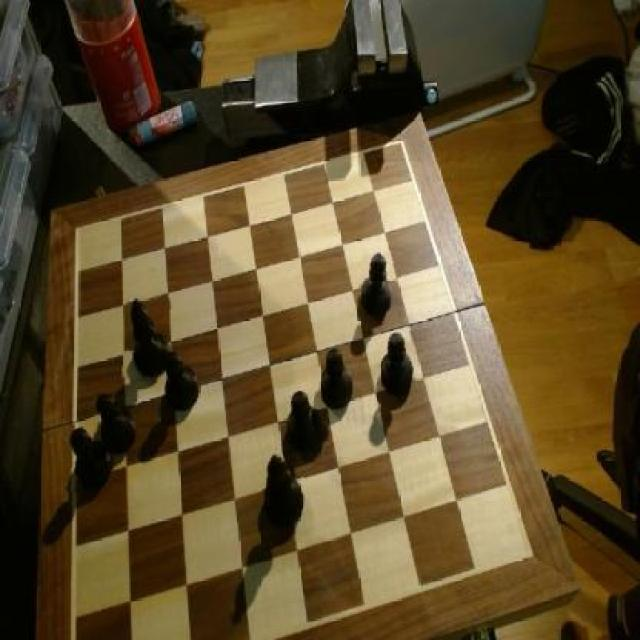bishop: (124, 296, 170, 382), (261, 454, 304, 536)
black-knight: (65, 424, 113, 494), (286, 386, 326, 462), (360, 249, 400, 323), (94, 392, 138, 456), (379, 332, 416, 403), (163, 346, 202, 413), (317, 346, 355, 409)
